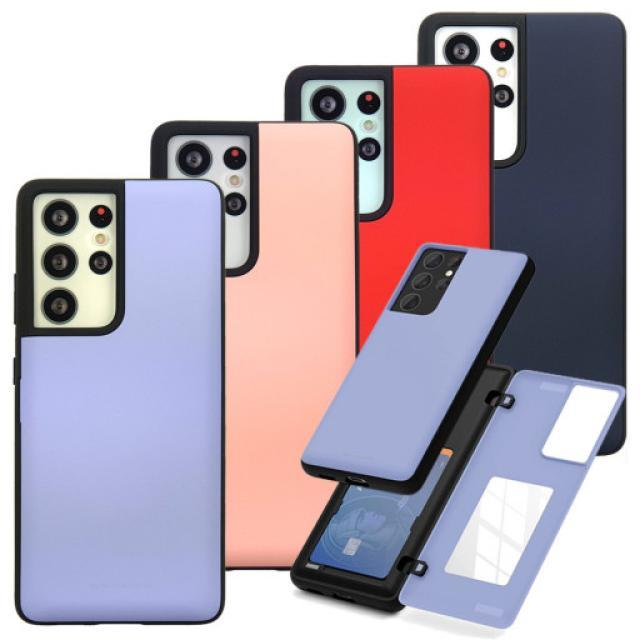phone: (12, 177, 226, 626)
